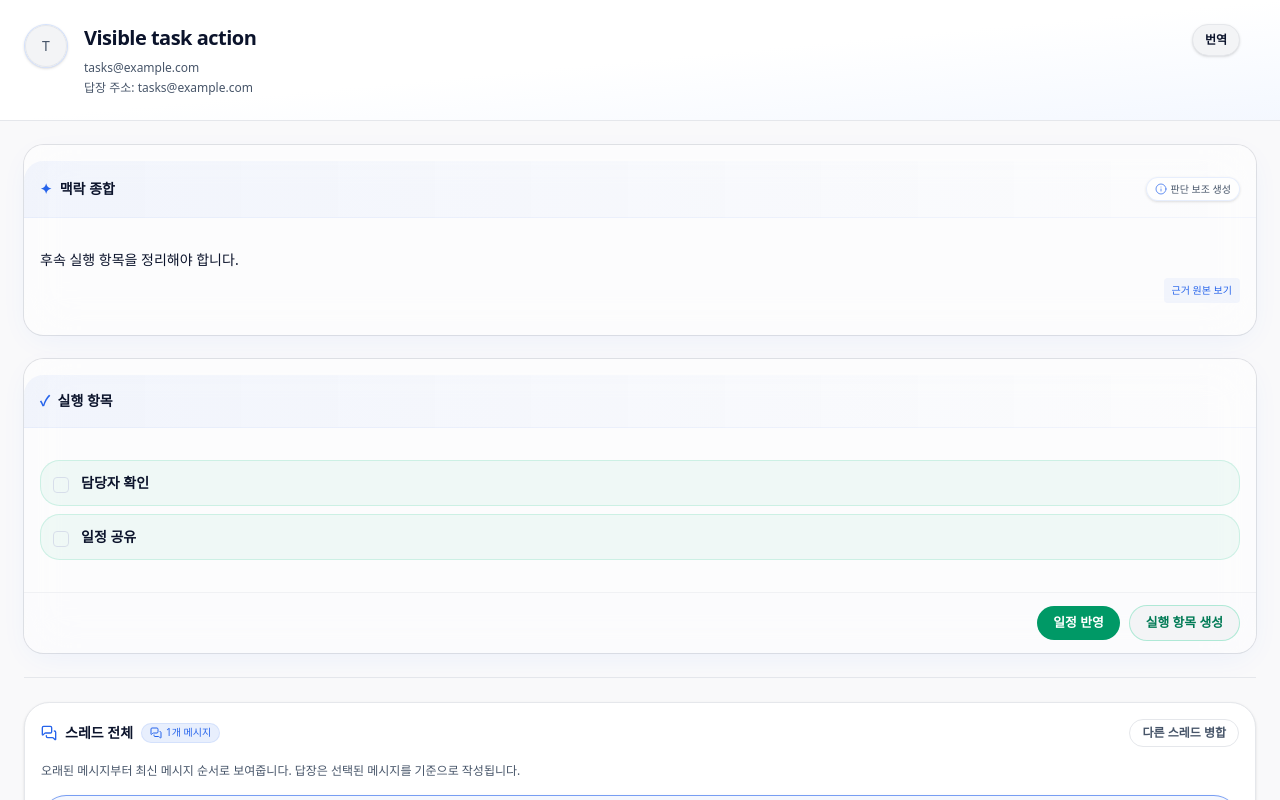
EmailDetail › lets users create tasks from visible execution items in the email detail
Click the button "실행 항목 생성" at (1184, 622), box [1129,604,1240,640]
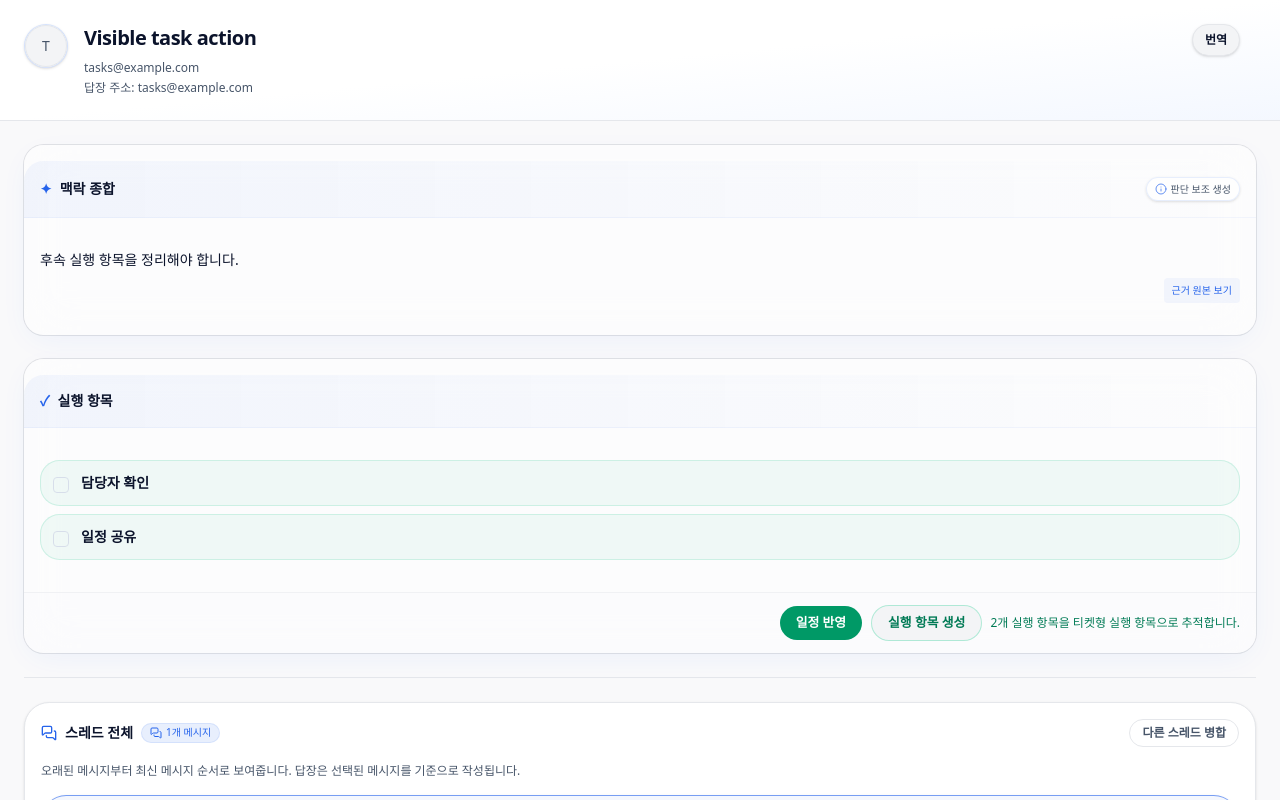
Now the element named "실행 항목" shows "2개 실행 항목을 티켓형 실행 항목으로 추적합니다.", box [990,614,1240,630]
